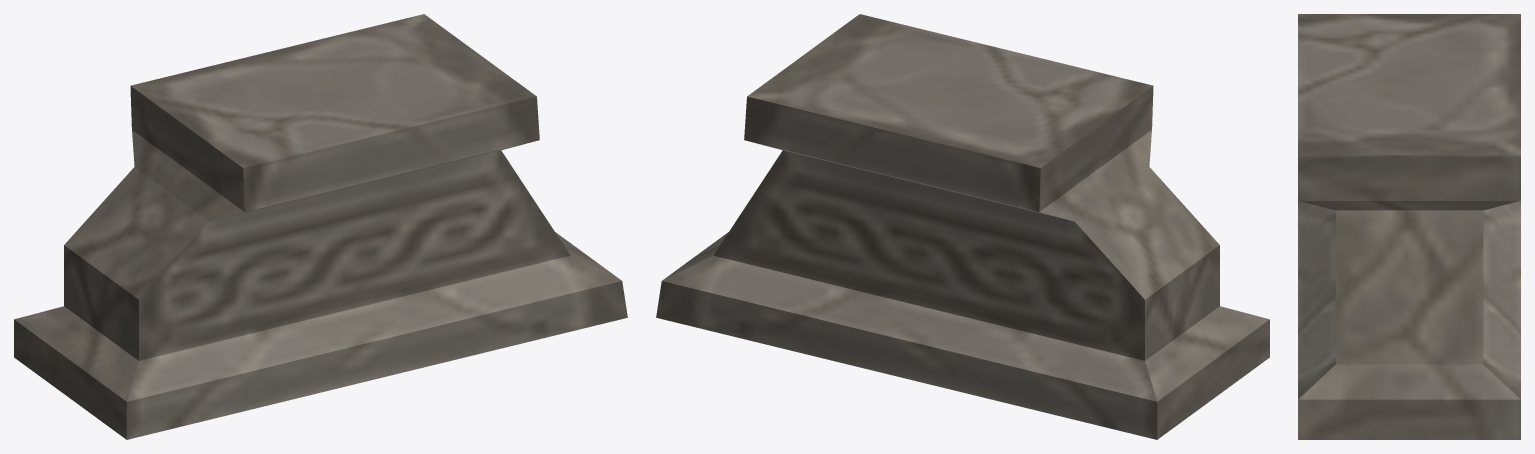
The model's file is ruin_pillar_8.FBX.
The picture shows the model from 3 angles, left to right: view 1: azimuth 30°, elevation 25°; view 2: azimuth 150°, elevation 25°; view 3: azimuth 270°, elevation 25°; orthographic projection.
Visible parts, largest first — view 1: Object025; view 2: Object025; view 3: Object025.
Part boxes in pixels (x1=…): Object025: x1=14, y1=14, x2=627, y2=439; Object025: x1=656, y1=14, x2=1269, y2=439; Object025: x1=1298, y1=14, x2=1520, y2=439.
Bounding box in the file's own units: 2 × 0.9278 × 0.7788.
